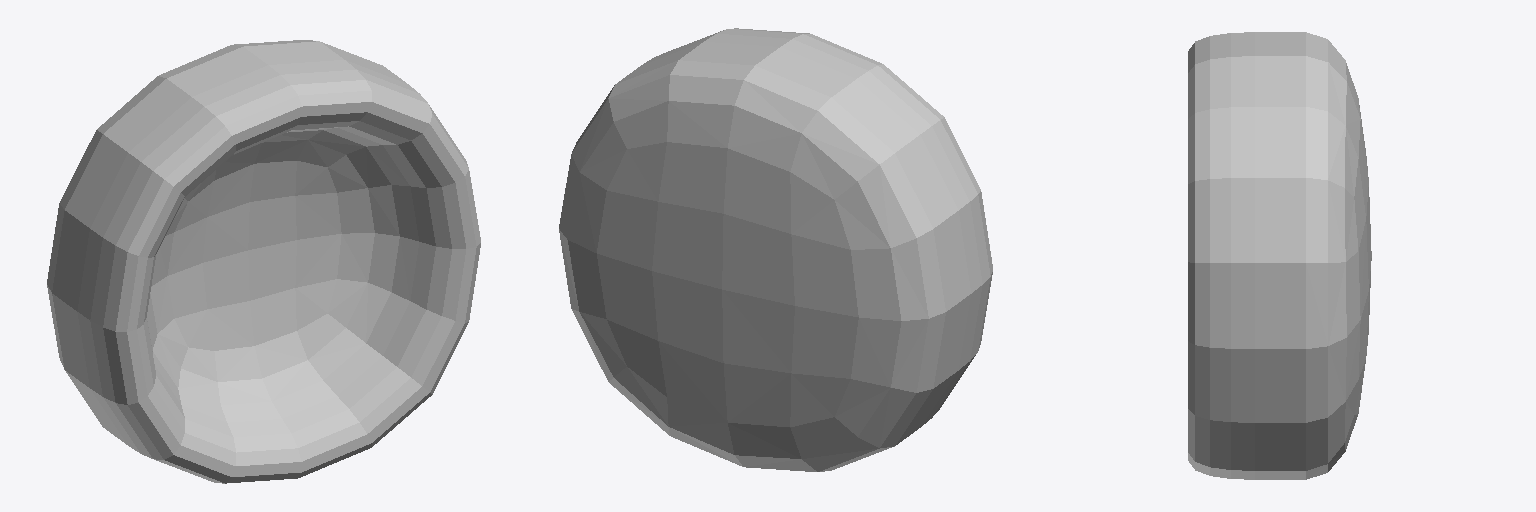
File: bowl.obj
3 views of the same model, side by side, from view 1: azimuth 30°, elevation 25°; view 2: azimuth 150°, elevation 25°; view 3: azimuth 270°, elevation 25° (orthographic).
Visible parts, largest first — view 1: Box01; view 2: Box01; view 3: Box01.
Boxes of the visible parts, box(x1,y1,x2,y2) form: Box01: box(47, 40, 480, 483); Box01: box(559, 28, 992, 471); Box01: box(1188, 32, 1371, 479).
Bounding box in the file's own units: 9.38 × 9.38 × 3.9.